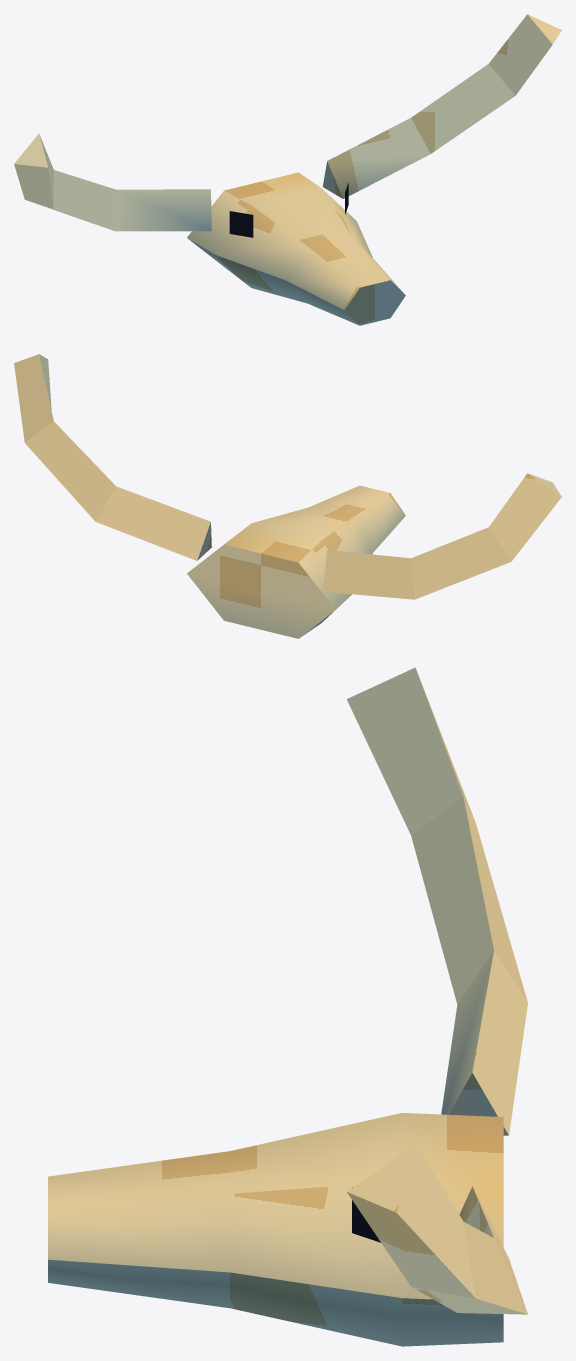
The model's file is wprop.skull.glb.
The picture shows the model from 3 angles, top to bottom: view 1: azimuth 30°, elevation 25°; view 2: azimuth 150°, elevation 25°; view 3: azimuth 270°, elevation 25°; orthographic projection. The views are drawn at different scales.
Parts seen in each view (by area): view 1: kit_horns, kit_skull, kit_card_eyes; view 2: kit_horns, kit_skull; view 3: kit_skull, kit_horns.
Boxes of the visible parts, box(x1,y1,x2,y2) form: kit_horns: box(14, 14, 561, 231); kit_skull: box(187, 172, 405, 325); kit_card_eyes: box(229, 183, 348, 237); kit_horns: box(14, 354, 561, 599); kit_skull: box(187, 485, 405, 638); kit_skull: box(48, 1113, 503, 1346); kit_horns: box(346, 667, 527, 1314).
Size of the model in its own units: 1.25 by 0.4432 by 0.4743.
2 materials, 2 textured.
